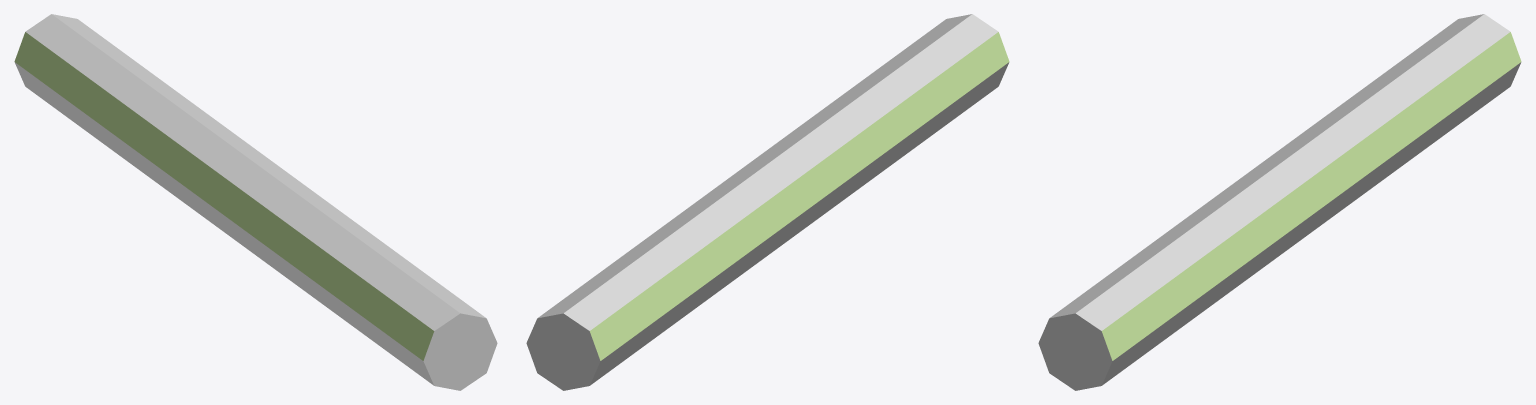
The model's file is trumpet_1.fbx.
3 views of the same model, side by side, from view 1: azimuth 30°, elevation 25°; view 2: azimuth 150°, elevation 25°; view 3: azimuth 330°, elevation 25° (orthographic).
Parts seen in each view (by area): view 1: Cylinder_14; view 2: Cylinder_14; view 3: Cylinder_14.
Part boxes in pixels (x1,y1,x2,y2): Cylinder_14: [14, 14, 497, 390]; Cylinder_14: [526, 14, 1009, 390]; Cylinder_14: [1038, 14, 1521, 390].
Size of the model in its own units: 25.31 by 25.31 by 242.
